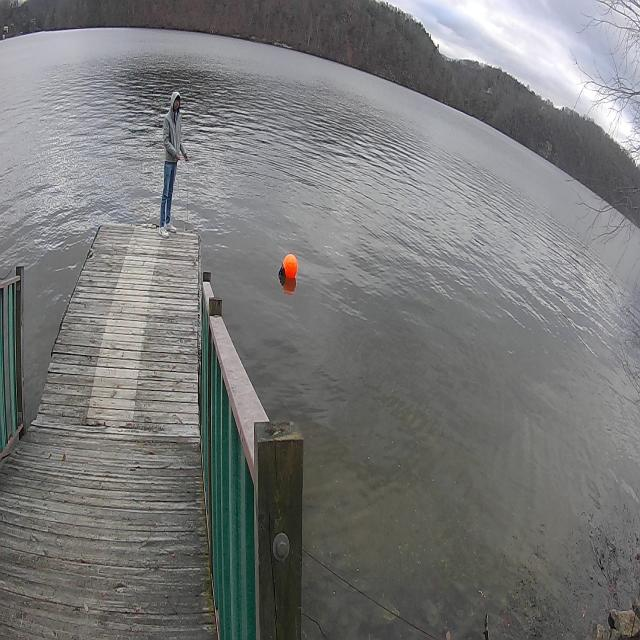Buoy: (276, 244, 304, 290)
